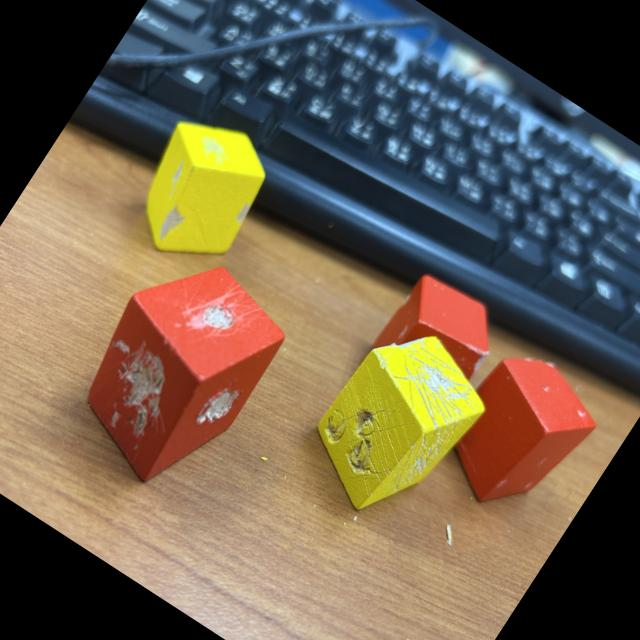broken: (50, 234, 300, 506), (289, 308, 504, 539), (423, 334, 611, 532), (112, 99, 287, 284), (356, 266, 510, 426)
